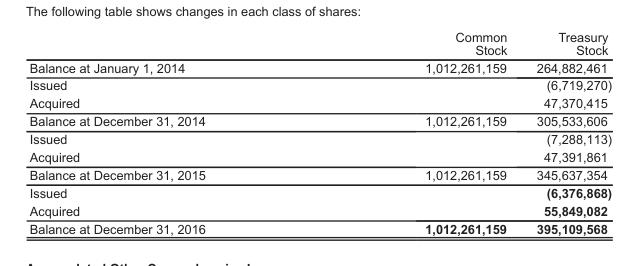table: (28, 29, 611, 235)
table column: (28, 29, 314, 235), (314, 29, 521, 235), (521, 29, 611, 235)
table column header: (28, 29, 611, 58)
table row: (28, 29, 611, 58), (28, 58, 611, 76), (28, 93, 611, 111), (28, 111, 611, 129), (28, 129, 611, 147), (28, 147, 611, 165), (28, 165, 611, 183), (28, 183, 611, 201), (28, 201, 611, 219), (28, 76, 611, 93), (28, 219, 611, 235)
